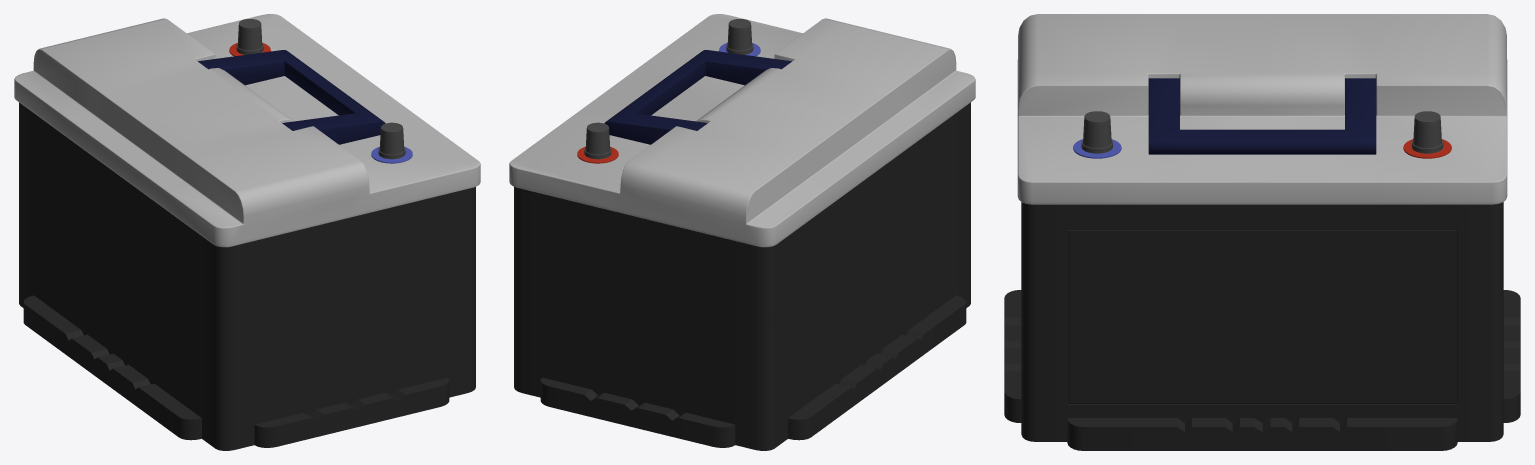
The model's file is bateria.fbx.
The picture shows the model from 3 angles, left to right: view 1: azimuth 30°, elevation 25°; view 2: azimuth 150°, elevation 25°; view 3: azimuth 270°, elevation 25°; orthographic projection. The views are drawn at different scales.
Parts seen in each view (by area): view 1: Battery, Cube.001, Cube.002, Circle; view 2: Battery, Cube.001, Cube.002, Circle; view 3: Battery, Cube.001, Cube.002, Circle.
Part boxes in pixels (box(x1,y1,x2,y2)): Battery: box(19, 102, 475, 450); Cube.001: box(14, 14, 480, 247); Cube.002: box(198, 50, 385, 144); Circle: box(229, 19, 412, 163); Battery: box(514, 102, 970, 450); Cube.001: box(509, 14, 975, 247); Cube.002: box(604, 50, 791, 144); Circle: box(577, 19, 760, 163); Battery: box(1004, 202, 1520, 450); Cube.001: box(1017, 14, 1507, 204); Cube.002: box(1148, 78, 1376, 154); Circle: box(1073, 111, 1451, 158).
Bounding box in the file's own units: 25.81 × 21.41 × 34.12.
